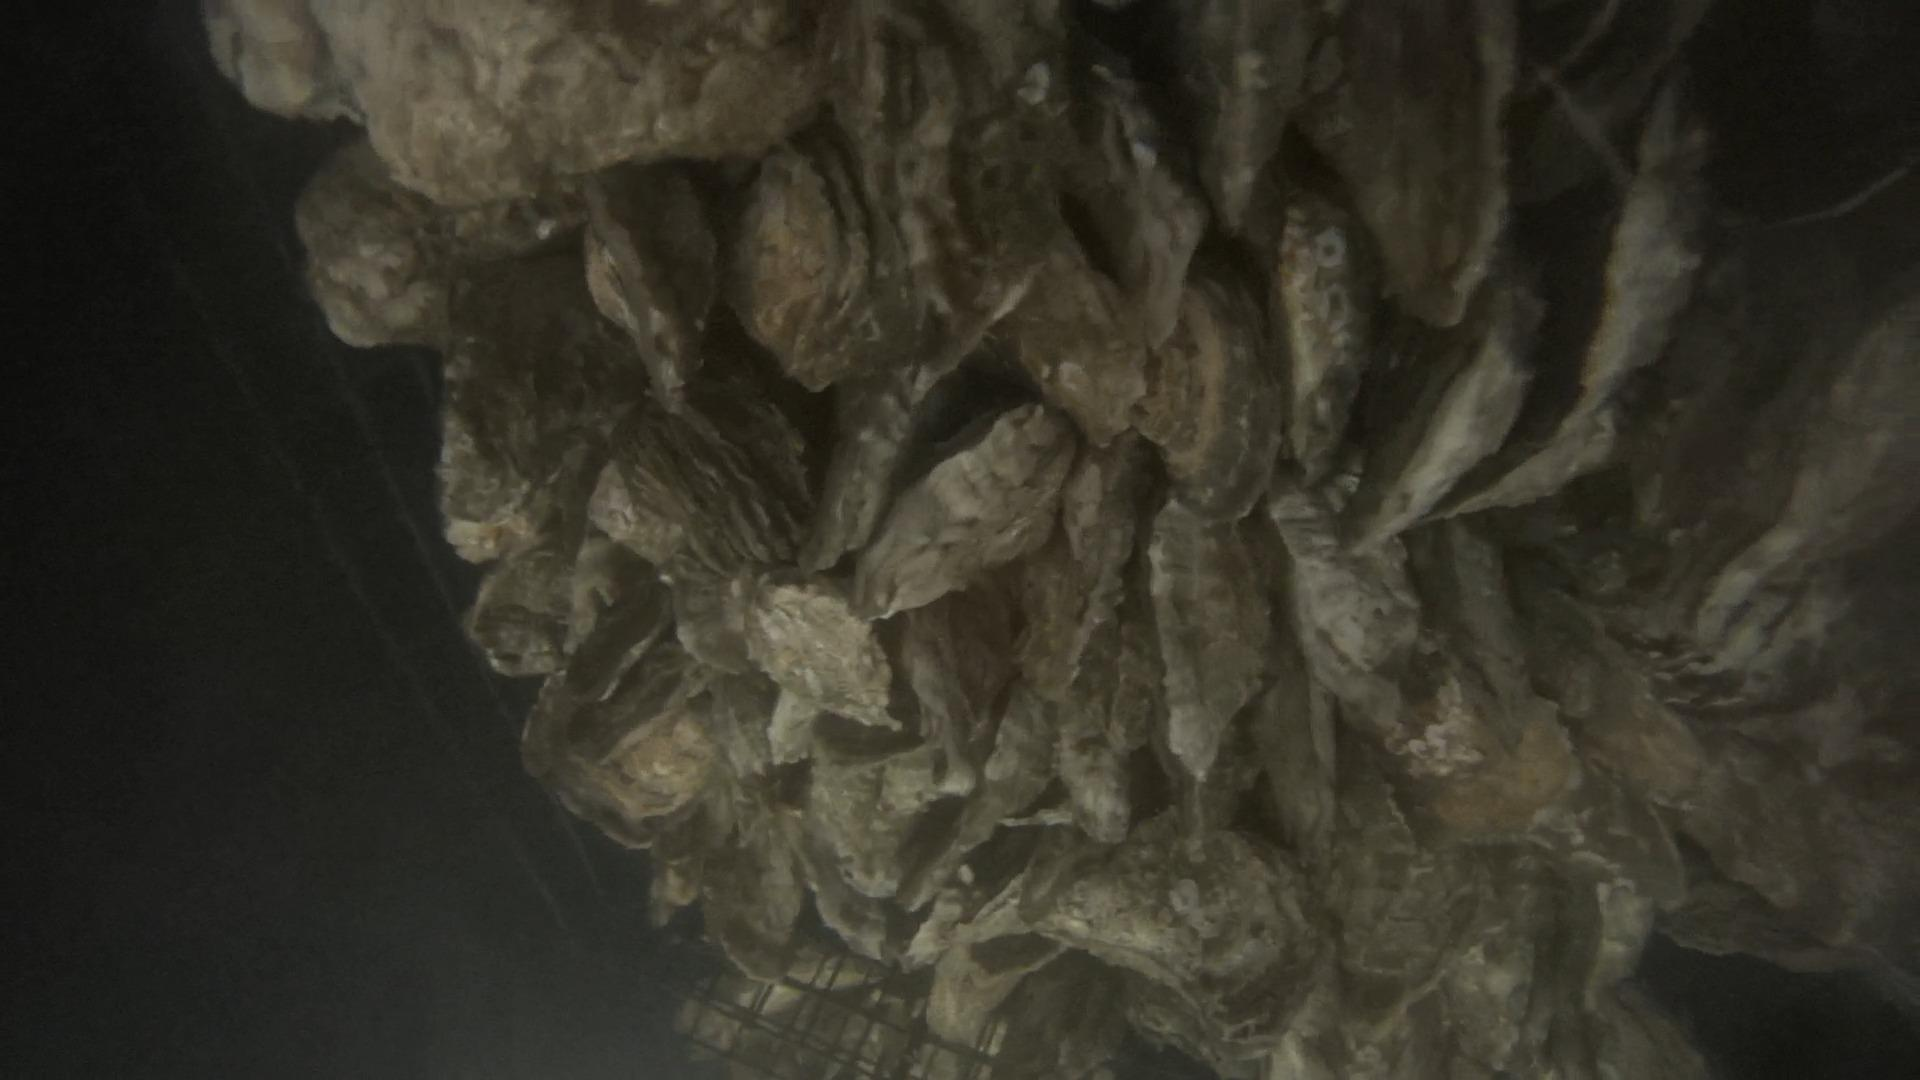3: (1342, 289, 1532, 549), (855, 11, 980, 355), (1073, 61, 1203, 334), (736, 135, 881, 368)
Oyster- Indeterminate: (1462, 70, 1709, 516), (311, 0, 774, 204), (1017, 831, 1332, 1044), (438, 206, 621, 568), (1247, 684, 1451, 994), (588, 396, 807, 673), (520, 600, 711, 851), (293, 132, 462, 363), (1130, 280, 1279, 517), (1399, 662, 1584, 833), (1278, 191, 1383, 484), (459, 531, 632, 676), (744, 583, 895, 727), (200, 0, 363, 123)
Oyster-Closed: (1669, 294, 1920, 642), (835, 404, 1089, 624), (1259, 498, 1453, 754), (1013, 442, 1175, 686), (1149, 501, 1275, 786), (584, 164, 719, 415), (1176, 7, 1321, 236)
